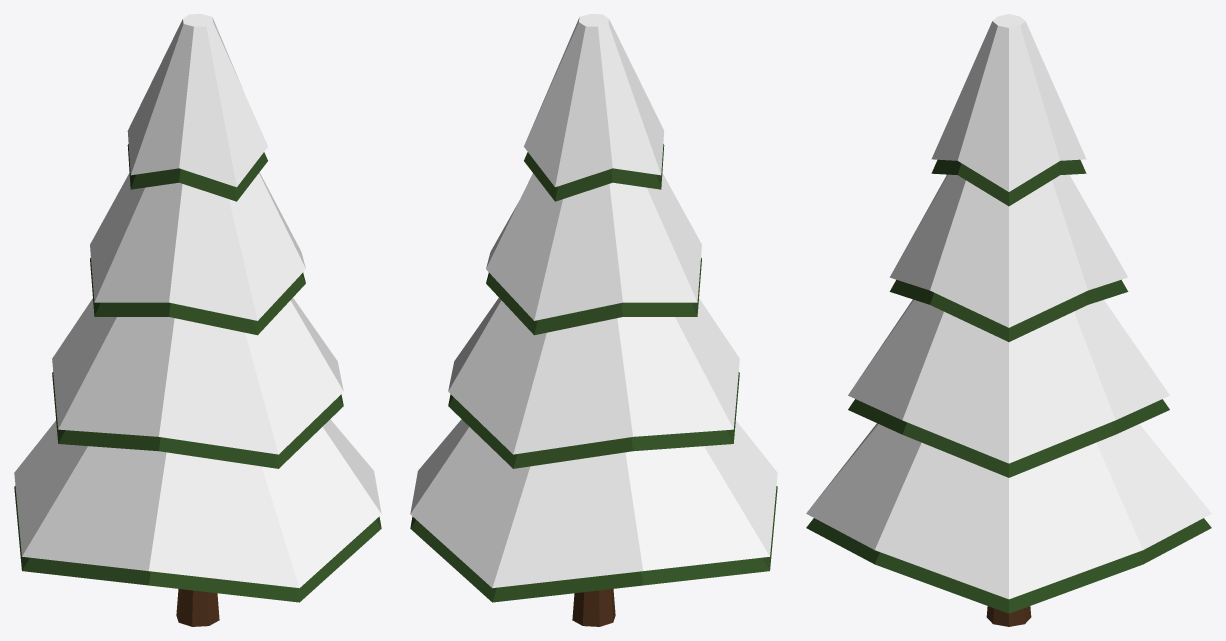
The model's file is SnowTreeType3.fbx.
The picture shows the model from 3 angles, left to right: view 1: azimuth 30°, elevation 25°; view 2: azimuth 150°, elevation 25°; view 3: azimuth 270°, elevation 25°; orthographic projection.
Visible parts, largest first — view 1: Cylinder.001; view 2: Cylinder.001; view 3: Cylinder.001.
Boxes of the visible parts, box(x1,y1,x2,y2) form: Cylinder.001: box(14, 14, 381, 626); Cylinder.001: box(410, 14, 777, 626); Cylinder.001: box(806, 14, 1211, 626).
Bounding box in the file's own units: 5.45 × 8.84 × 5.45.
